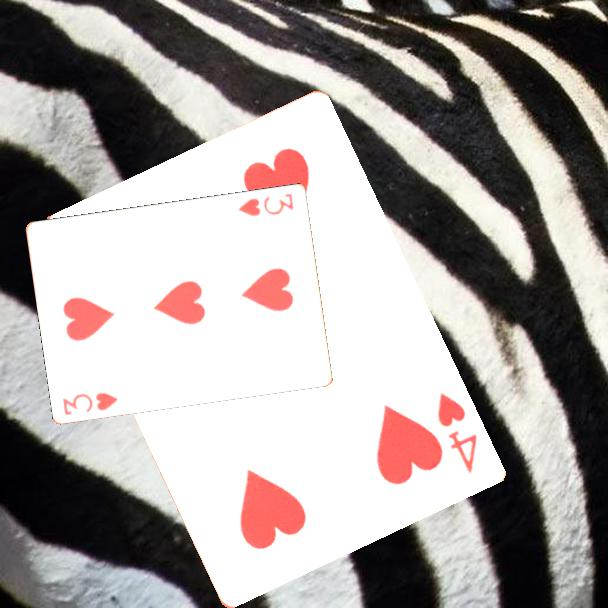h03: (235, 189, 296, 219), (59, 388, 121, 417)
h04: (433, 389, 480, 476)
